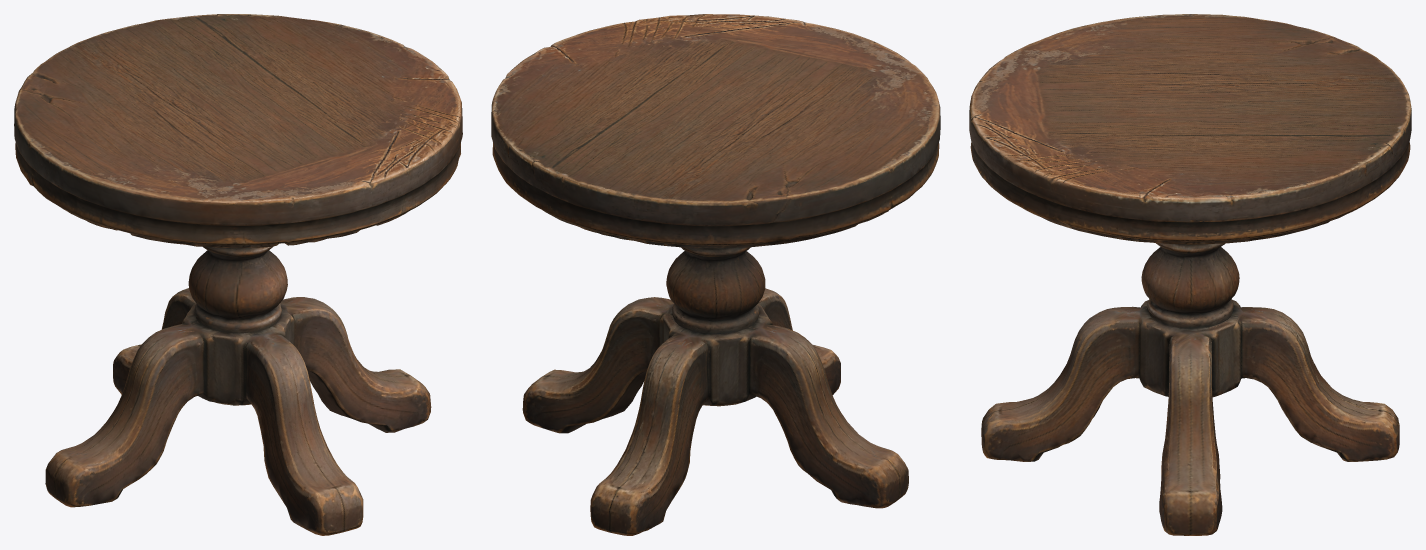
Rendered from Furn_SideTable.fbx.
3 views of the same model, side by side, from view 1: azimuth 30°, elevation 25°; view 2: azimuth 150°, elevation 25°; view 3: azimuth 270°, elevation 25° (orthographic).
Visible parts, largest first — view 1: texture_mapping; view 2: texture_mapping; view 3: texture_mapping.
Part boxes in pixels (bbox=[...]): texture_mapping: bbox=[14, 14, 462, 535]; texture_mapping: bbox=[491, 14, 940, 535]; texture_mapping: bbox=[969, 14, 1411, 535].
Bounding box in the file's own units: 1 × 1 × 0.8581.
1 material, 1 textured.
